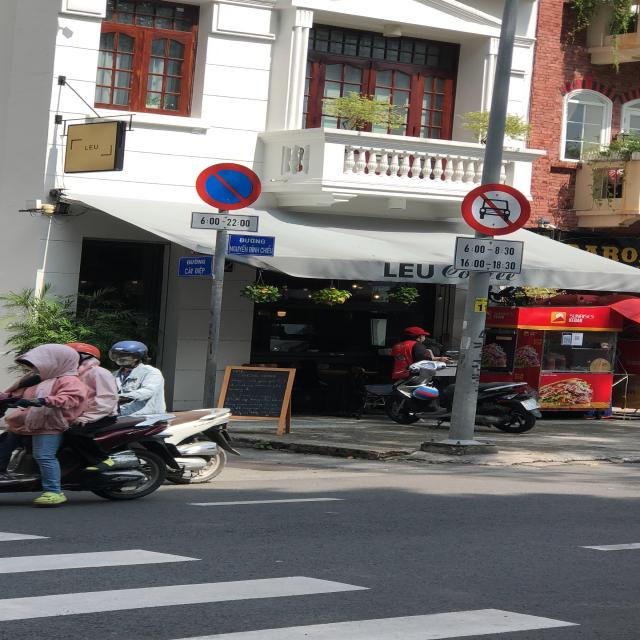Bien bao cam do xe: (193, 161, 274, 212)
Bien bao cam xe oto: (460, 180, 542, 240)
